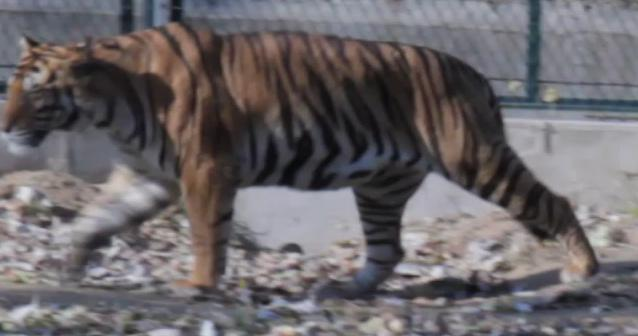tiger: (0, 22, 597, 293)
